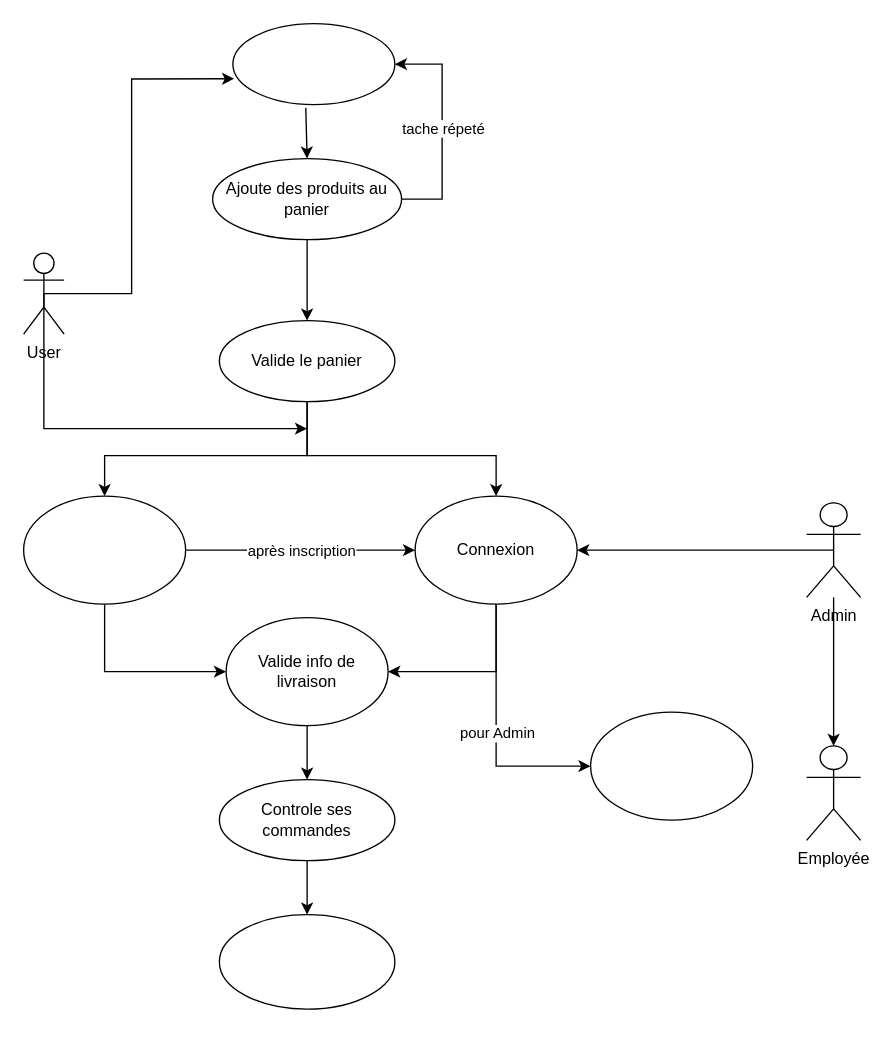
This 892x1044 diagram has some shape labels left out. Each missing label, with the centre of its shape:
Consulte les produits: [313,63]
Gère des produits: [671,765]
Inscription: [104,549]
Regarder, imprimer la facture en PDF: [306,961]
